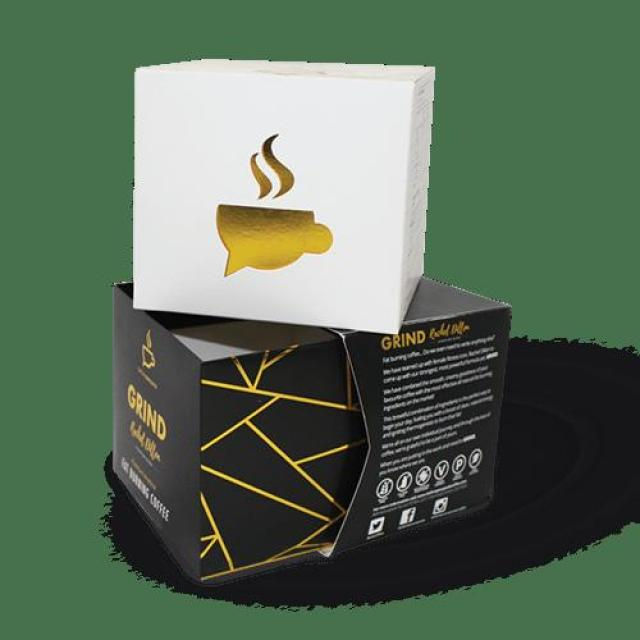Pathole: (109, 277, 511, 584), (130, 58, 437, 336)
